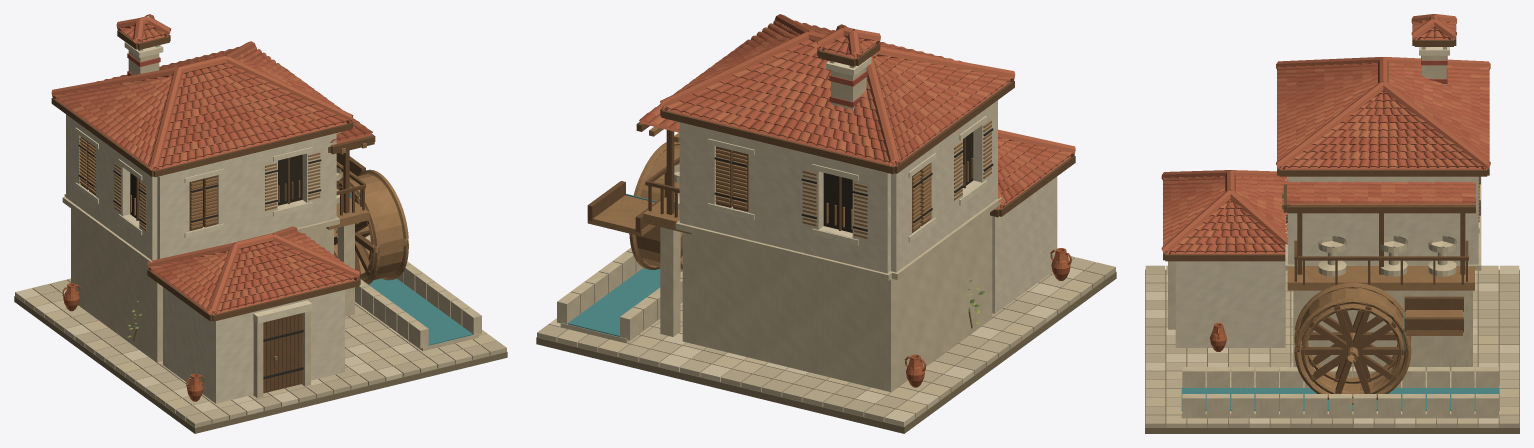
Rendered from muehle.glb.
3 views of the same model, side by side, from view 1: azimuth 30°, elevation 25°; view 2: azimuth 150°, elevation 25°; view 3: azimuth 270°, elevation 25° (orthographic). The views are drawn at different scales.
Parts seen in each view (by area): view 1: Limewash.002, Limewash.001, Travertine.002, Tile_0.001, Tile_1.001, Oak.001, Oak_edge.001, Travertine.001, Paving_1.001, Tile_5.001, Paving_3.001, Paving_0.001 (+15 smaller); view 2: Travertine.001, Travertine.002, Limewash.001, Limewash.002, Tile_0.001, Tile_1.001, Oak_edge.001, Oak.001, Paving_1.001, Paving_3.001, Paving_0.001, Tile_5.001 (+13 smaller); view 3: Travertine.001, Limewash.001, Tile_0.001, Oak.001, Tile_1.001, Oak_edge.001, Travertine.002, Limewash.002, Paving_1.001, Tile_5.001, Paving_3.001, Paving_0.001 (+10 smaller).
Boxes of the visible parts, x1,y1,x2,y2 form: Limewash.002: (66, 114, 344, 403); Limewash.001: (66, 114, 344, 402); Travertine.002: (62, 45, 481, 397); Tile_0.001: (62, 24, 364, 309); Tile_1.001: (51, 14, 366, 314); Oak.001: (51, 30, 375, 392); Oak_edge.001: (79, 137, 408, 284); Travertine.001: (63, 45, 480, 397); Paving_1.001: (32, 278, 506, 427); Tile_5.001: (78, 28, 349, 313); Paving_3.001: (55, 302, 461, 423); Paving_0.001: (25, 295, 496, 413); Travertine.001: (558, 61, 1000, 388); Travertine.002: (557, 61, 1001, 391); Limewash.001: (680, 120, 1056, 301); Limewash.002: (679, 100, 1057, 313); Tile_0.001: (659, 19, 1060, 202); Tile_1.001: (660, 14, 1075, 209); Oak_edge.001: (594, 120, 991, 269); Oak.001: (588, 43, 1075, 328); Paving_1.001: (537, 262, 1115, 421); Paving_3.001: (618, 255, 1095, 406); Paving_0.001: (557, 272, 1092, 418); Tile_5.001: (650, 23, 1072, 190); Travertine.001: (1168, 48, 1498, 420); Limewash.001: (1176, 176, 1477, 346); Tile_0.001: (1163, 21, 1489, 252); Oak.001: (1163, 24, 1489, 393); Tile_1.001: (1161, 14, 1490, 254); Oak_edge.001: (1282, 176, 1479, 404); Travertine.002: (1168, 47, 1499, 421); Limewash.002: (1175, 176, 1478, 347); Paving_1.001: (1145, 265, 1519, 427); Tile_5.001: (1163, 27, 1489, 252); Paving_3.001: (1145, 270, 1519, 427); Paving_0.001: (1145, 265, 1519, 427).
Size of the model in its own units: 9.2 by 8.24 by 9.2.
26 materials, 7 textured.
